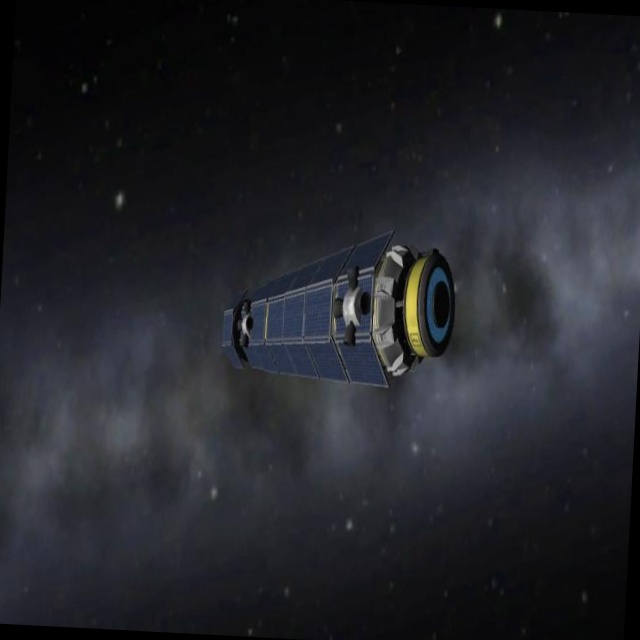medium_debris: (211, 222, 463, 400)
